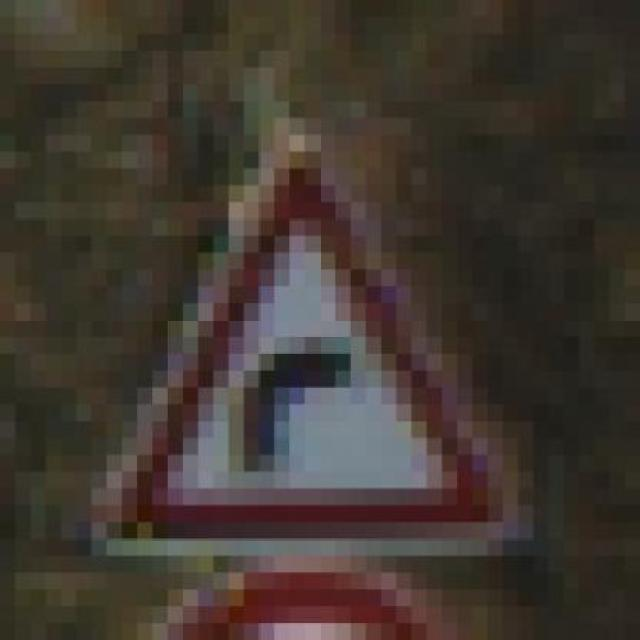Dangerous Rright Curve Ahead: (75, 135, 503, 539)
